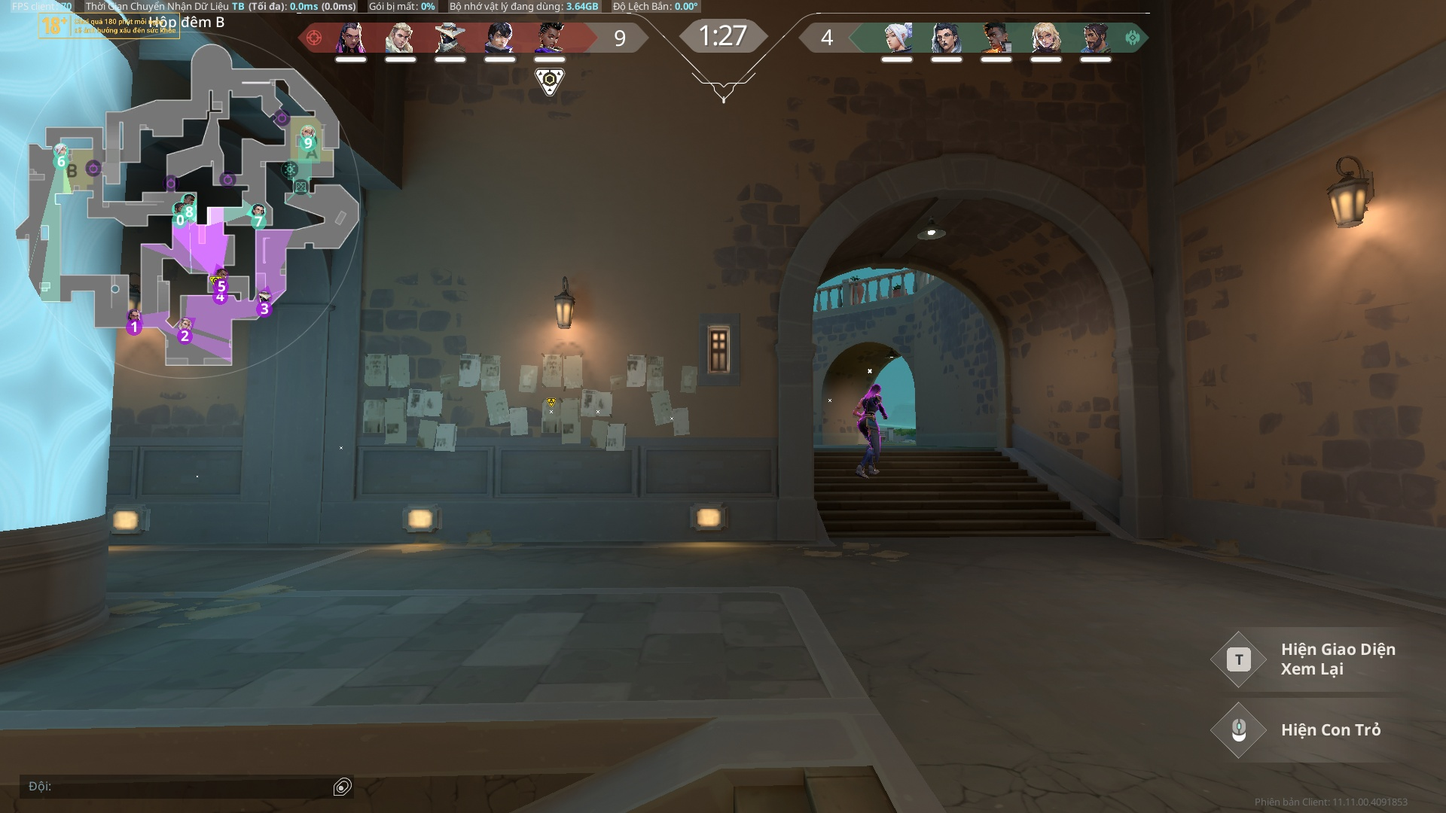body: (861, 392, 880, 413)
head: (869, 382, 883, 394)
